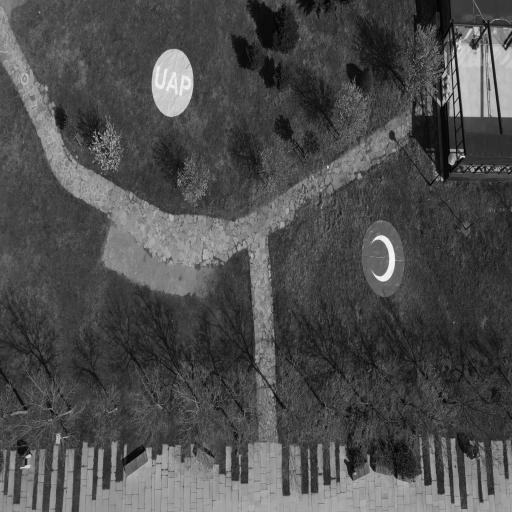UAP: (362, 220, 405, 297)
car: (152, 49, 193, 117)
